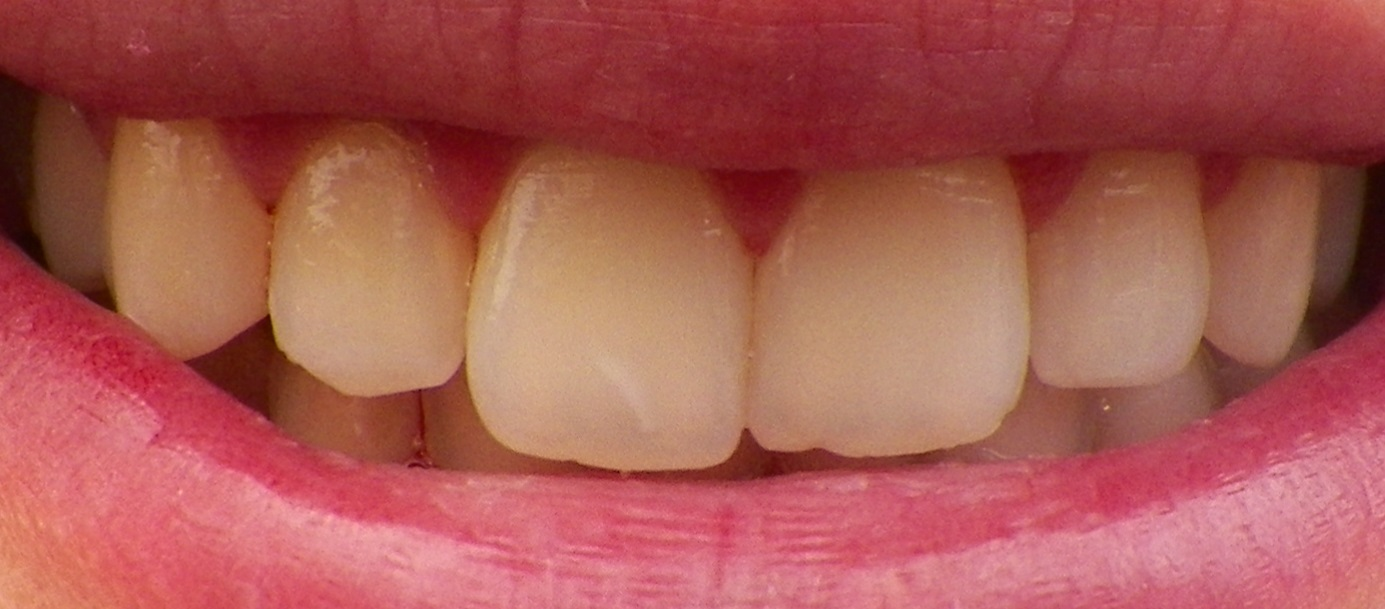boca: (14, 84, 1380, 468)
